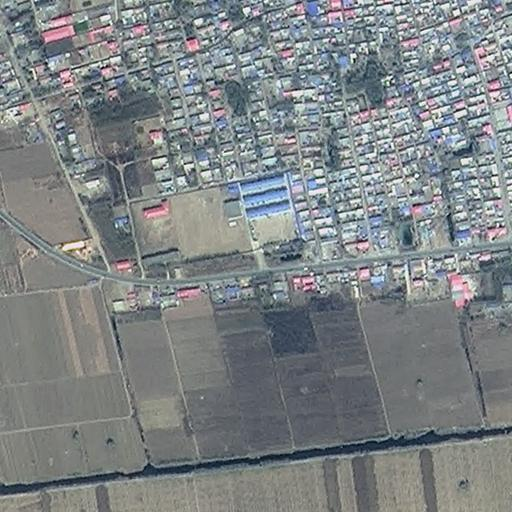school: (238, 171, 299, 248)
